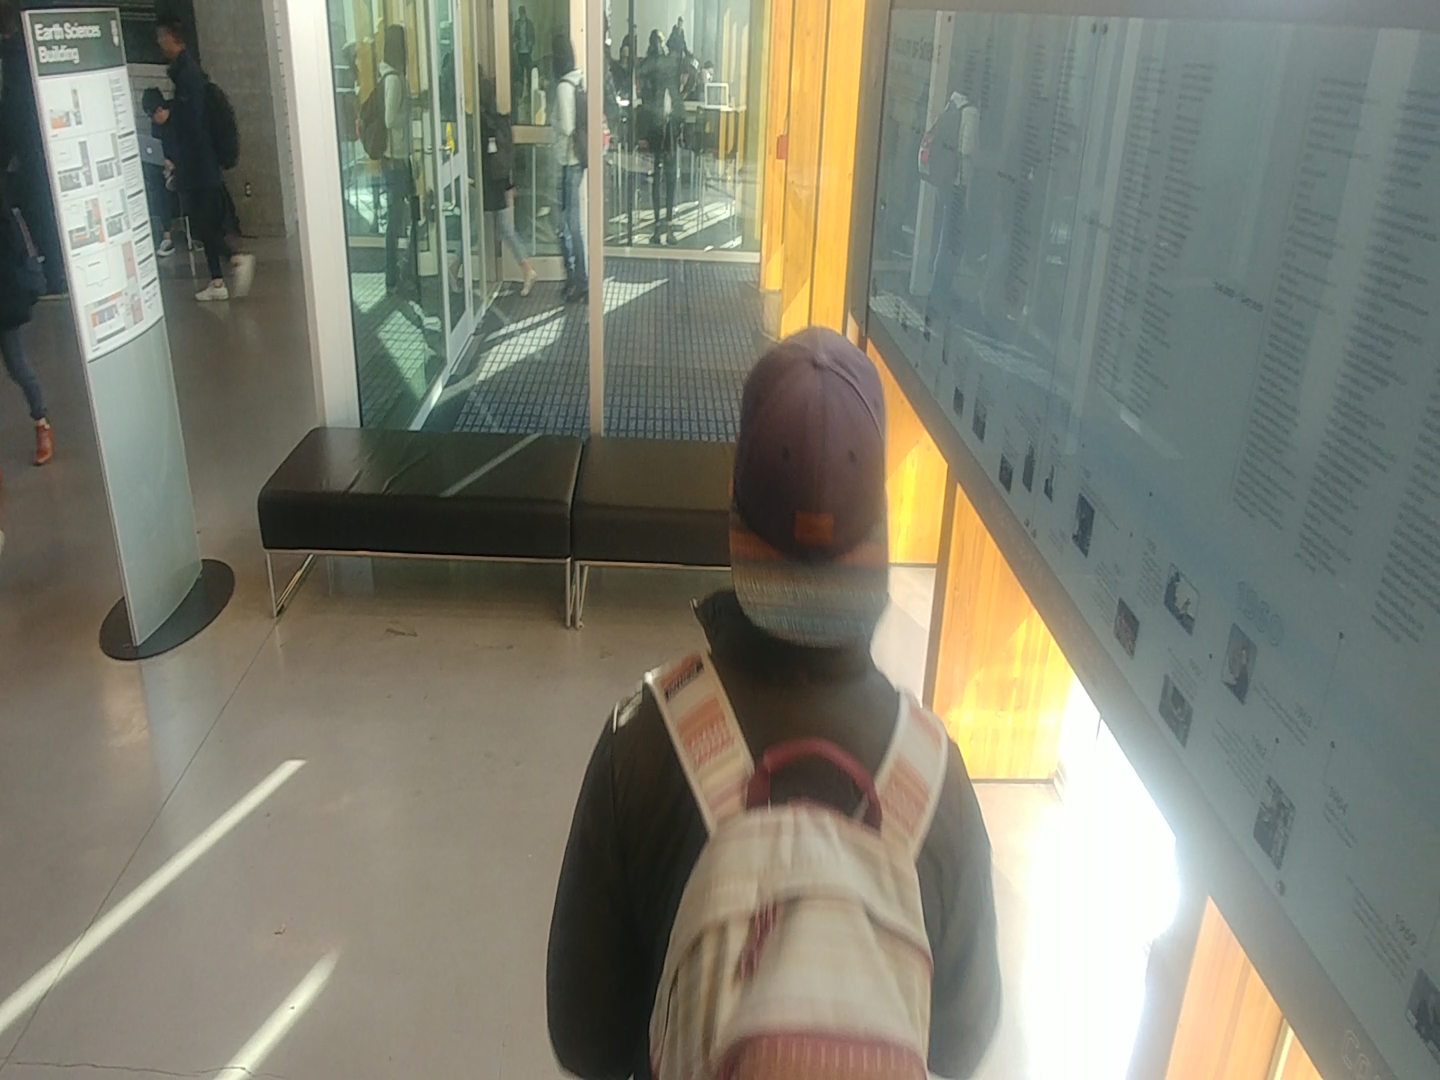face: (694, 309, 912, 659), (145, 6, 201, 65), (544, 23, 590, 89), (372, 17, 422, 75), (134, 78, 177, 135), (640, 20, 675, 62)
human: (542, 313, 1019, 1080), (145, 5, 265, 309), (346, 20, 438, 303), (529, 26, 591, 303), (469, 58, 540, 298), (637, 17, 704, 244)
